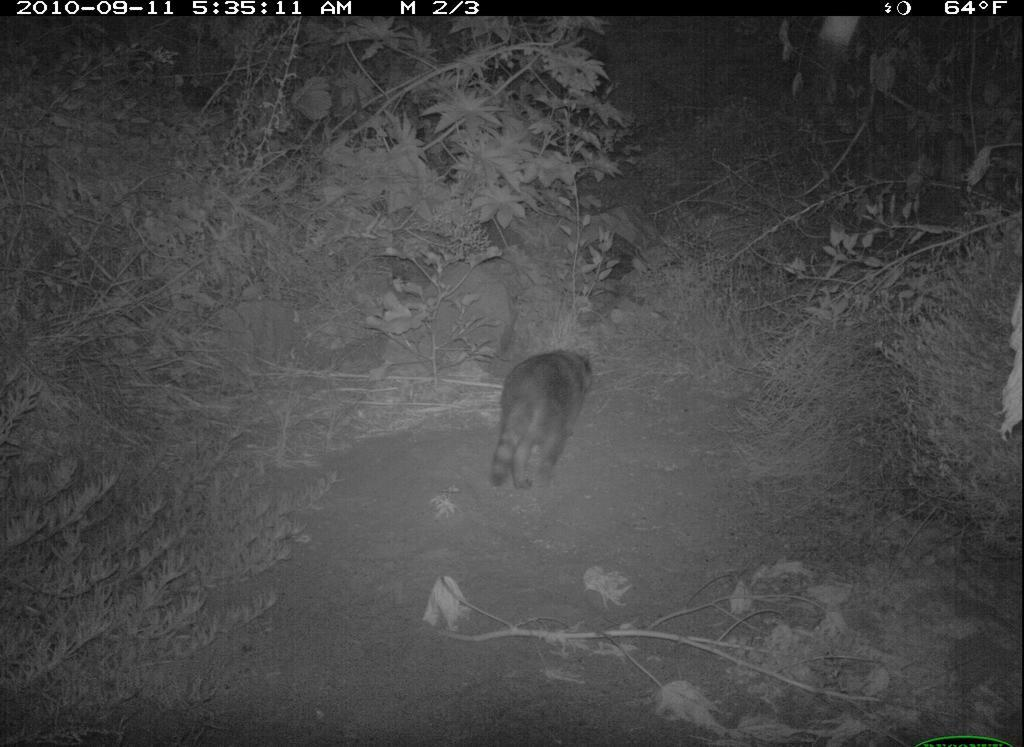raccoon: (479, 340, 609, 500)
